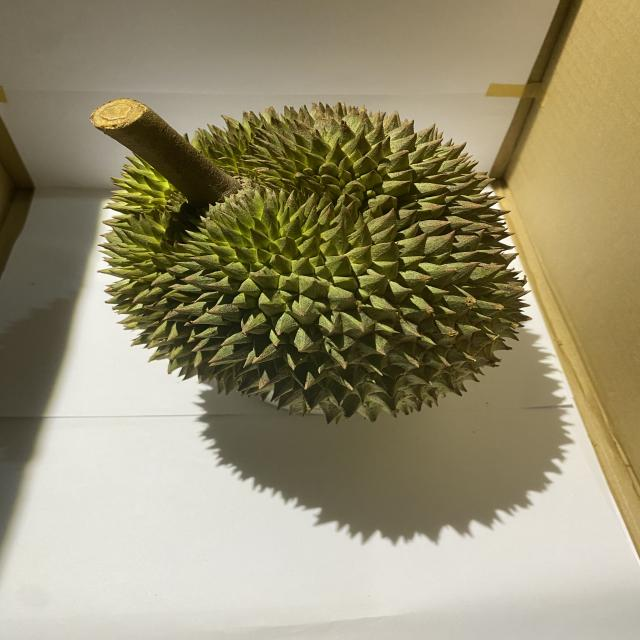immature: (107, 100, 532, 423)
